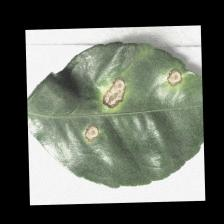canker: (71, 62, 189, 153)
